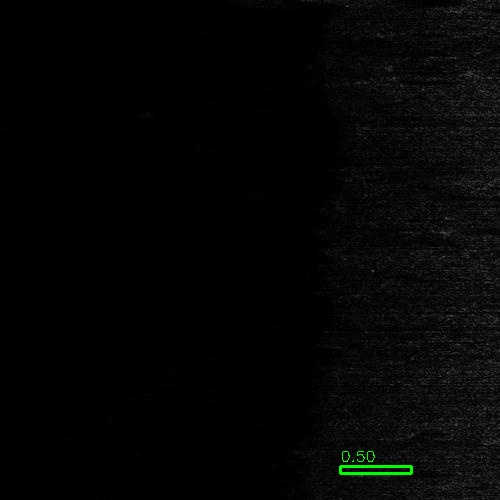rock: (448, 66, 489, 75), (355, 469, 418, 474), (491, 436, 500, 443)
shadow: (387, 469, 469, 474), (469, 66, 500, 75)
